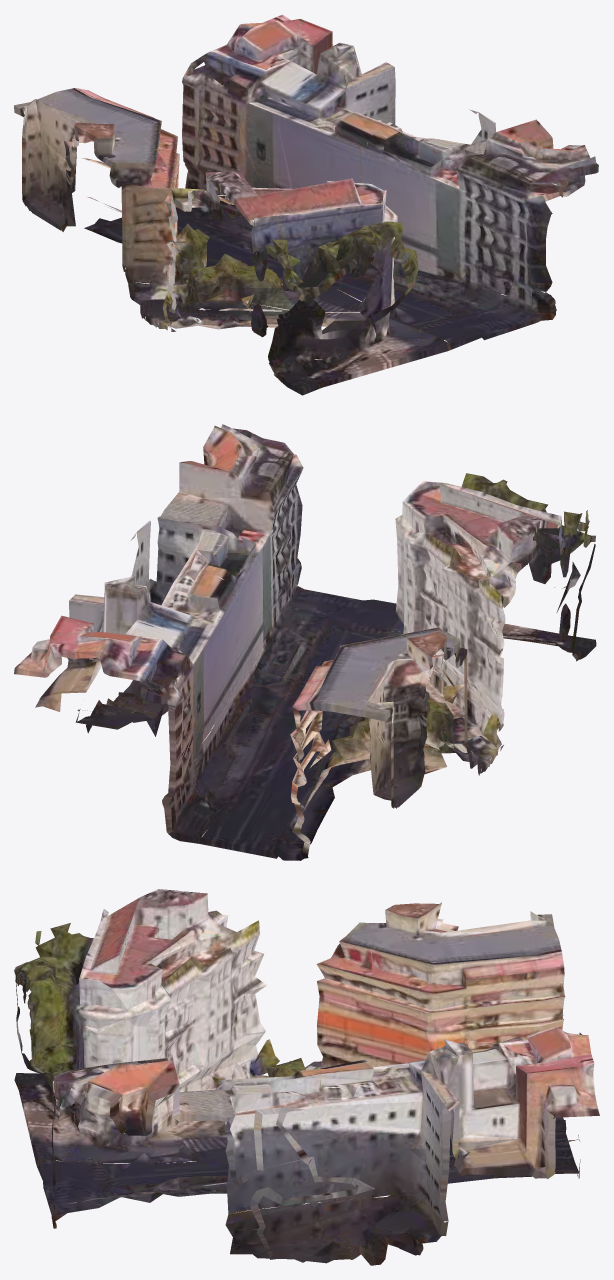
3 views of the same model, one above another, from view 1: azimuth 30°, elevation 25°; view 2: azimuth 150°, elevation 25°; view 3: azimuth 270°, elevation 25° (orthographic). The views are drawn at different scales.
Parts seen in each view (by area): view 1: Mesh_0; view 2: Mesh_0; view 3: Mesh_0.
Part boxes in pixels (x1,y1,x2,y2): Mesh_0: (14,14,598,395); Mesh_0: (14,424,596,860); Mesh_0: (14,889,599,1265).
Bounding box in the file's own units: 66.54 × 33.67 × 82.69.
1 material, 1 textured.
